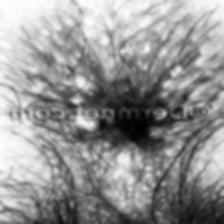Non-Cancerous Skin Condition: (58, 58, 212, 144), (112, 110, 162, 144), (77, 113, 109, 136)
